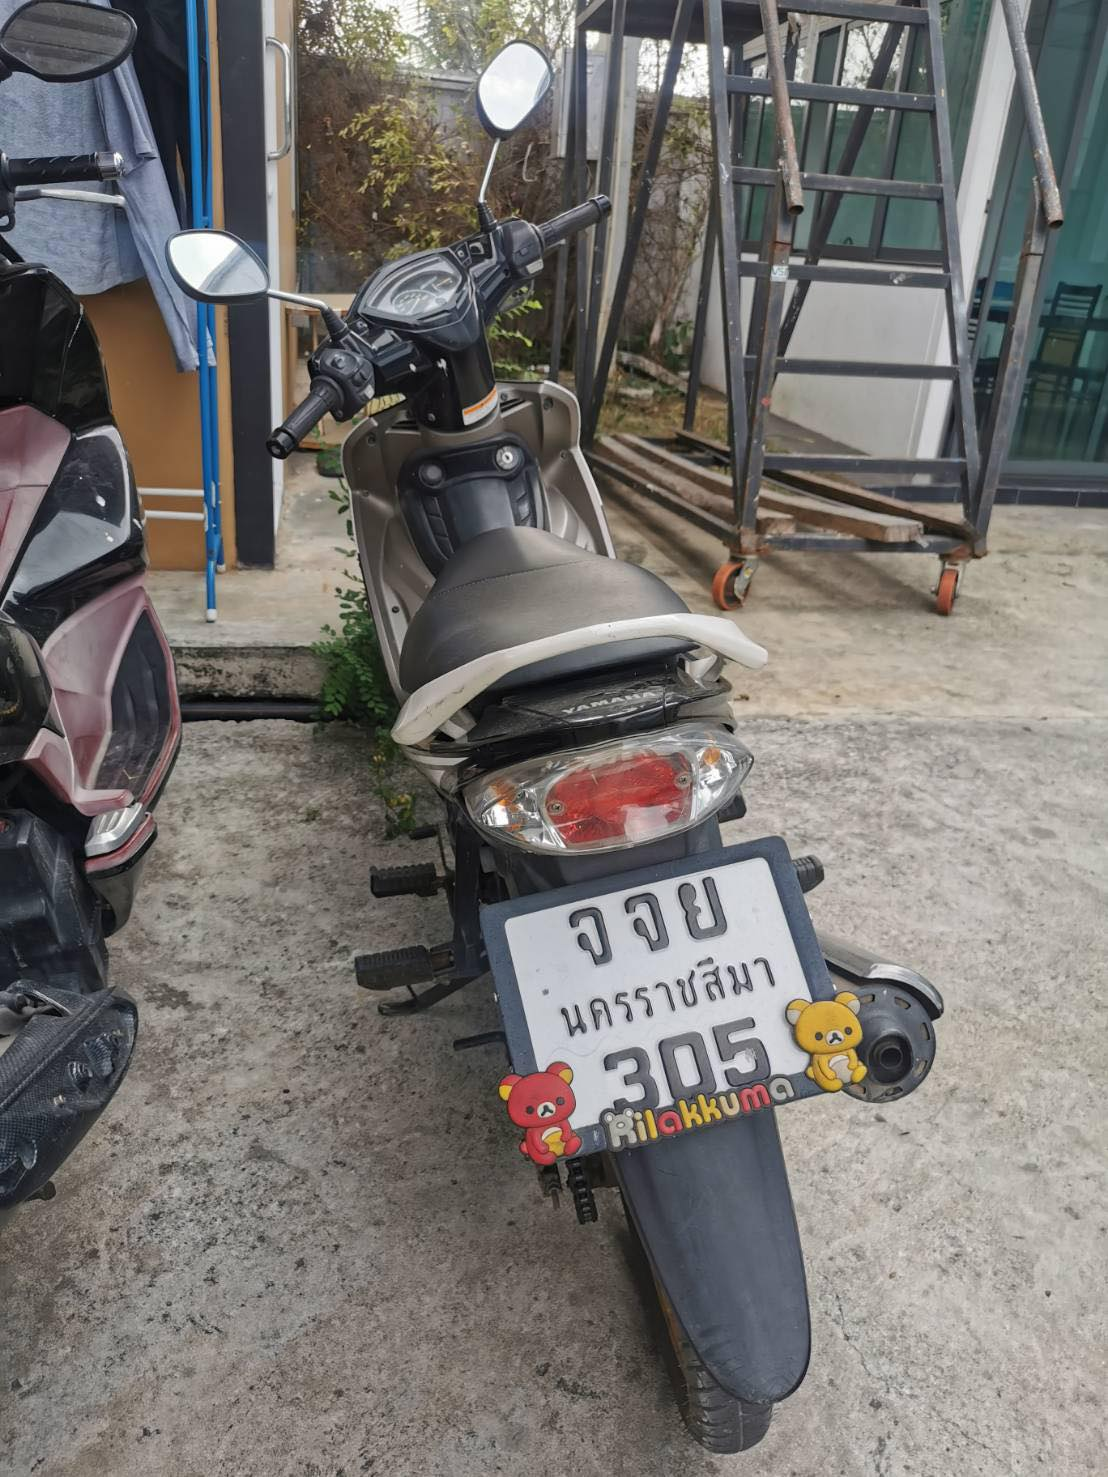line1: (559, 866, 734, 972)
line2: (545, 954, 780, 1029)
line3: (602, 1027, 782, 1113)
